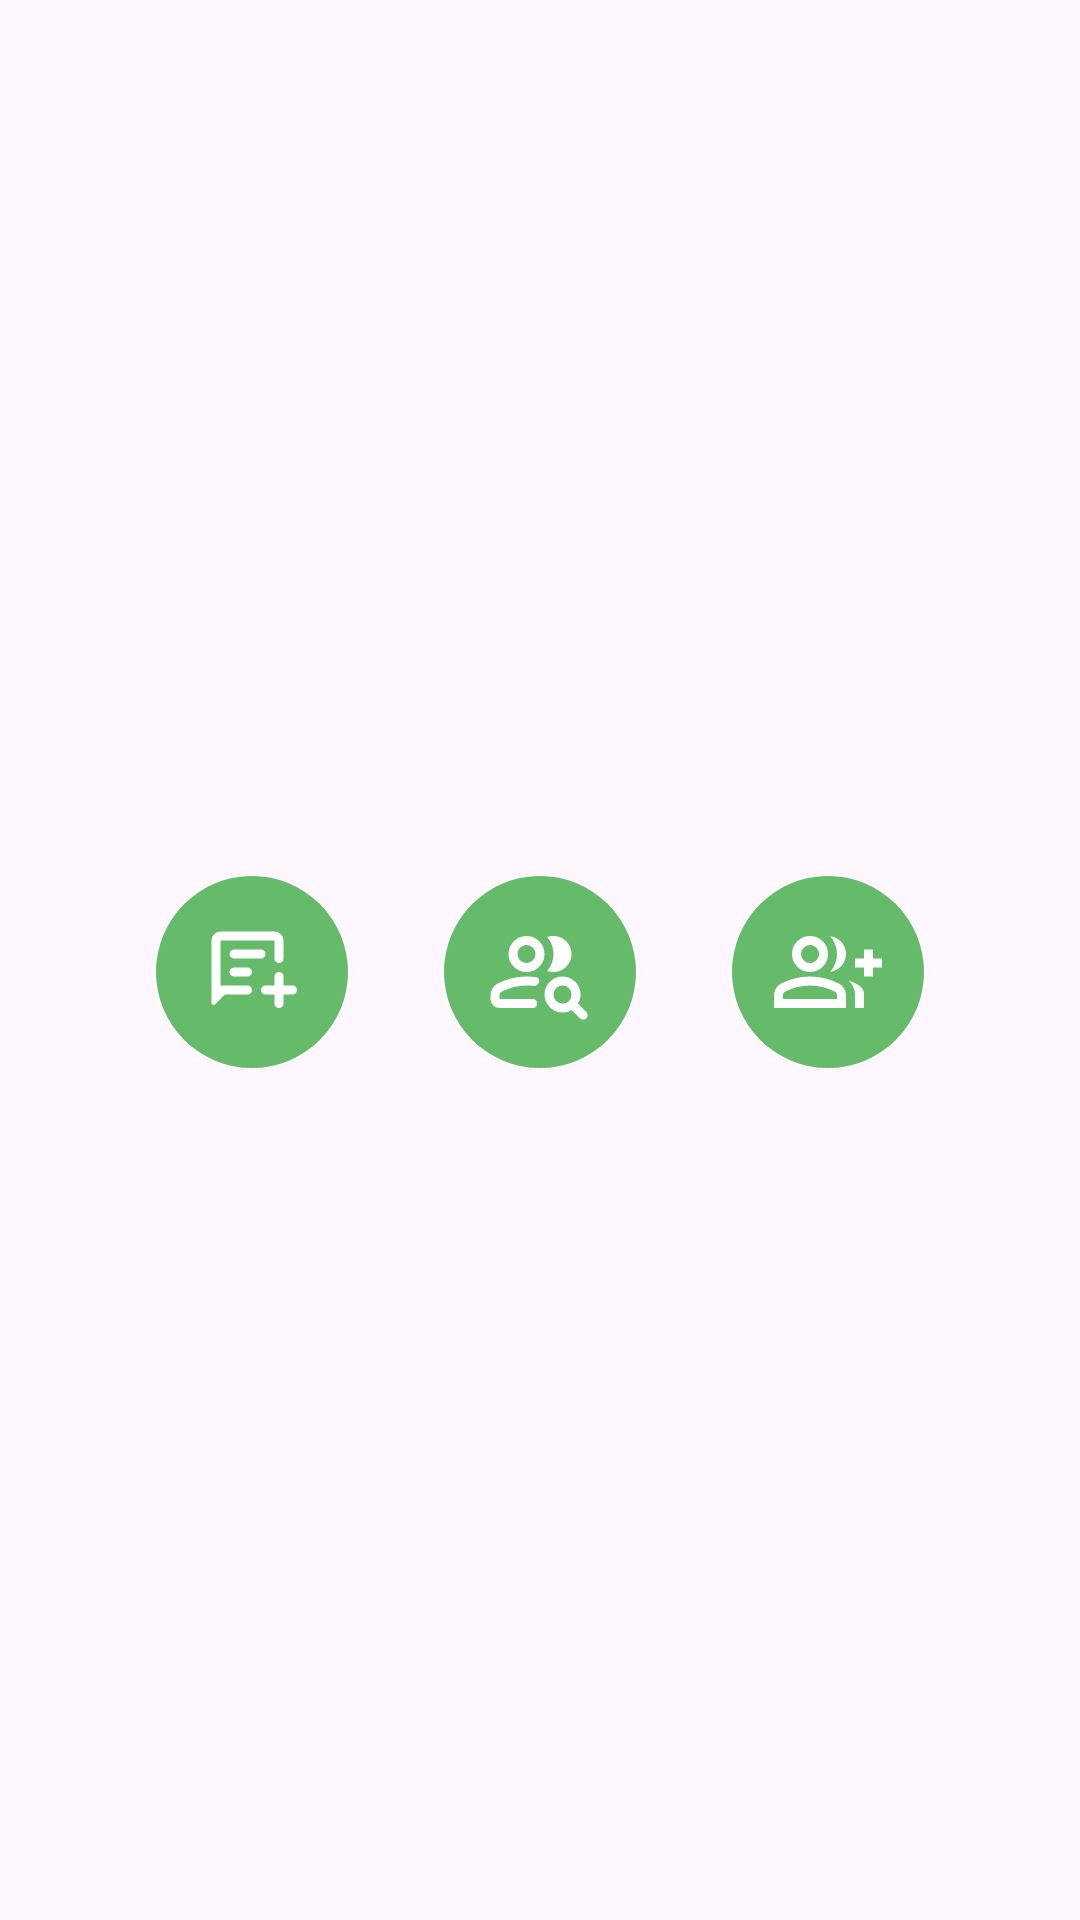

Where icons sit on this 1080×1920 app screen, as (left=x1, top=y1, right=x2, bottom=y2):
Crear grupo: (left=732, top=876, right=924, bottom=1068)
Mensaje a un nodo: (left=156, top=876, right=348, bottom=1068)
Unirse a grupo: (left=444, top=876, right=636, bottom=1068)
